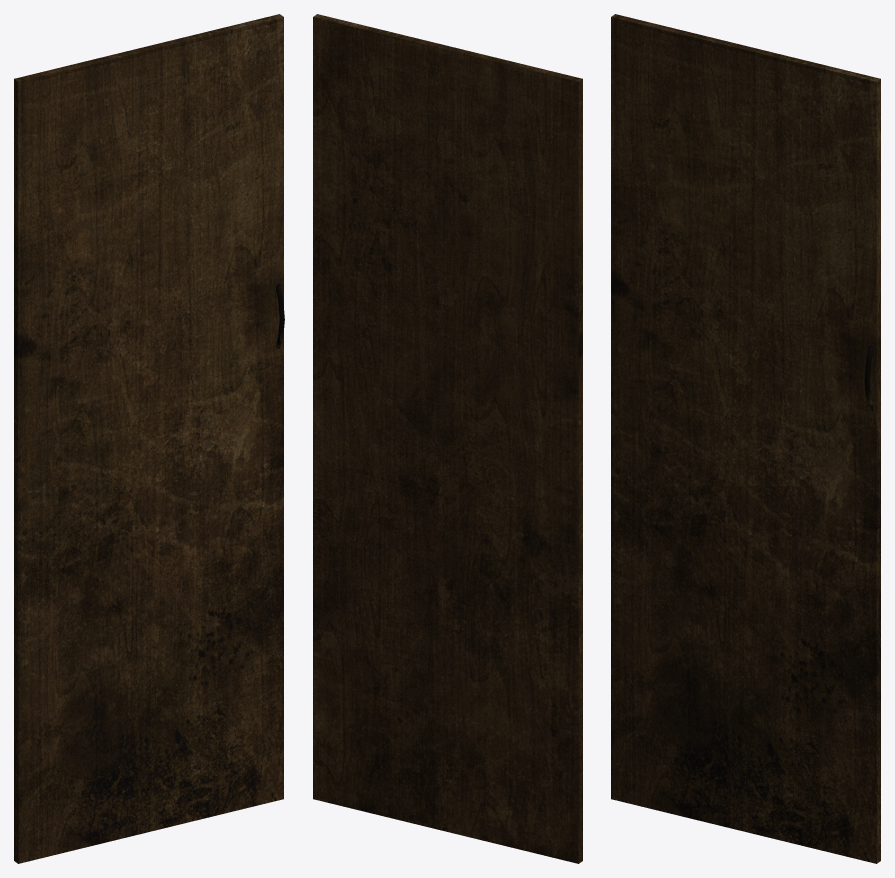
The model's file is closetLeftDoor02_b.FBX.
3 renders of one model, left to right at view 1: azimuth 30°, elevation 25°; view 2: azimuth 150°, elevation 25°; view 3: azimuth 330°, elevation 25°, orthographic.
Visible parts, largest first — view 1: SM_ClosetLeftDoor02; view 2: SM_ClosetLeftDoor02; view 3: SM_ClosetLeftDoor02.
Part boxes in pixels (x1,y1,x2,y2): SM_ClosetLeftDoor02: (14, 14, 284, 863); SM_ClosetLeftDoor02: (313, 14, 582, 863); SM_ClosetLeftDoor02: (611, 14, 880, 863).
Bounding box in the file's own units: 66.02 × 186 × 3.99.
1 material, 1 textured.
